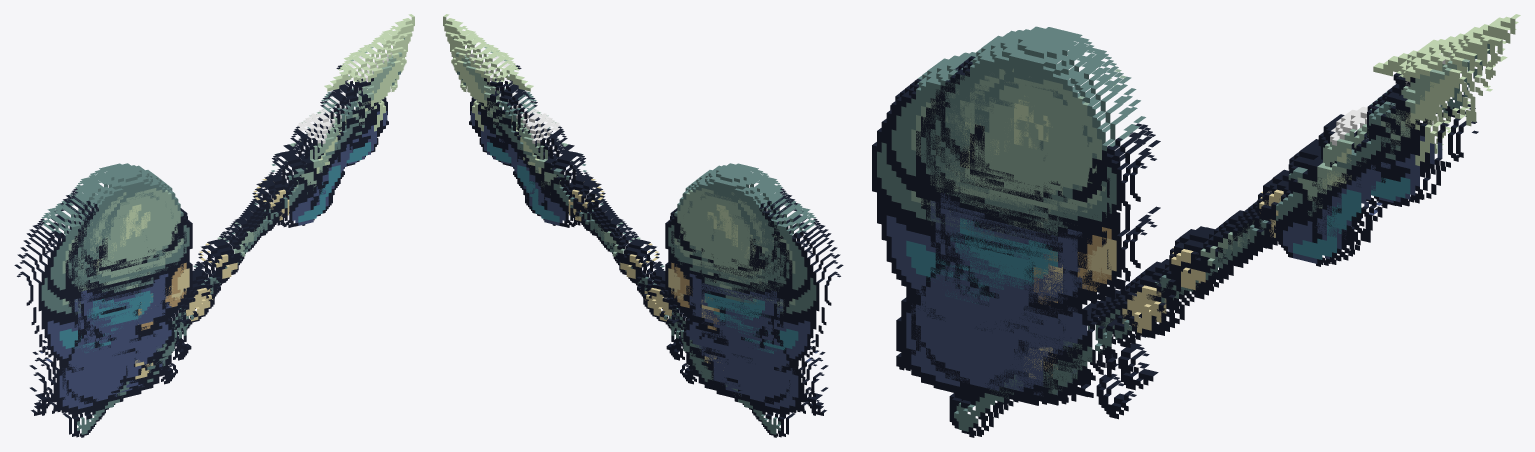
File: lanceiro_golpe_cima_lado.glb
3 renders of one model, left to right at view 1: azimuth 30°, elevation 25°; view 2: azimuth 150°, elevation 25°; view 3: azimuth 330°, elevation 25°, orthographic. The views are drawn at different scales.
Parts seen in each view (by area): view 1: q0, q2, q1; view 2: q0, q2, q1; view 3: q0, q2, q1.
Part boxes in pixels (x1,y1,x2,y2): q0: [31, 14, 414, 415]; q2: [14, 88, 357, 437]; q1: [42, 20, 413, 404]; q0: [443, 14, 826, 415]; q2: [500, 88, 843, 437]; q1: [443, 18, 815, 404]; q0: [911, 14, 1520, 399]; q2: [872, 52, 1387, 437]; q1: [916, 20, 1515, 400].
Size of the model in its own units: 129 by 107 by 14.
1 material, 1 textured.
